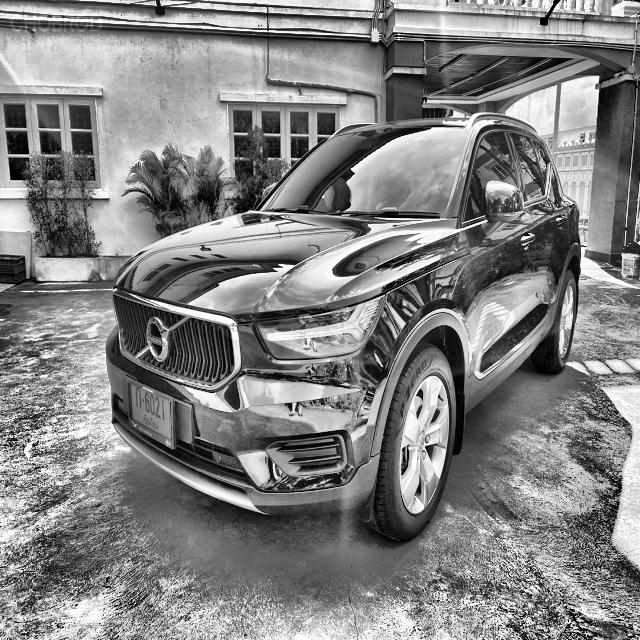license-plate: (124, 375, 177, 455)
